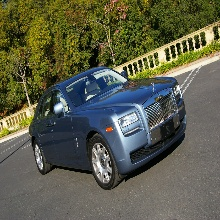no damage: (28, 66, 188, 189)
